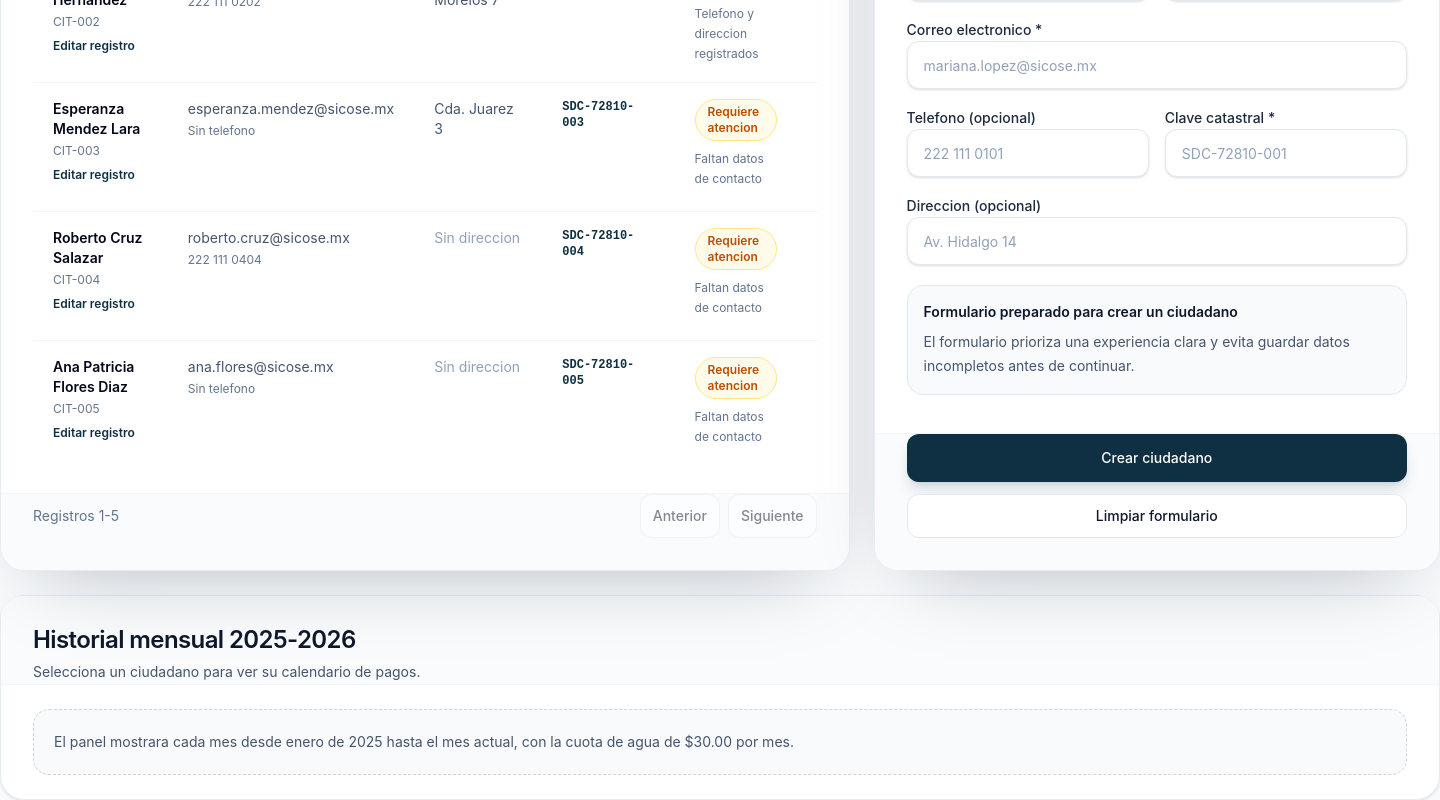
Test: CitizenManagementPanel › shows validation errors when the form is submitted empty
(page scrolled)
Click the button "Crear ciudadano": (1157, 458) [907,434,1407,482]
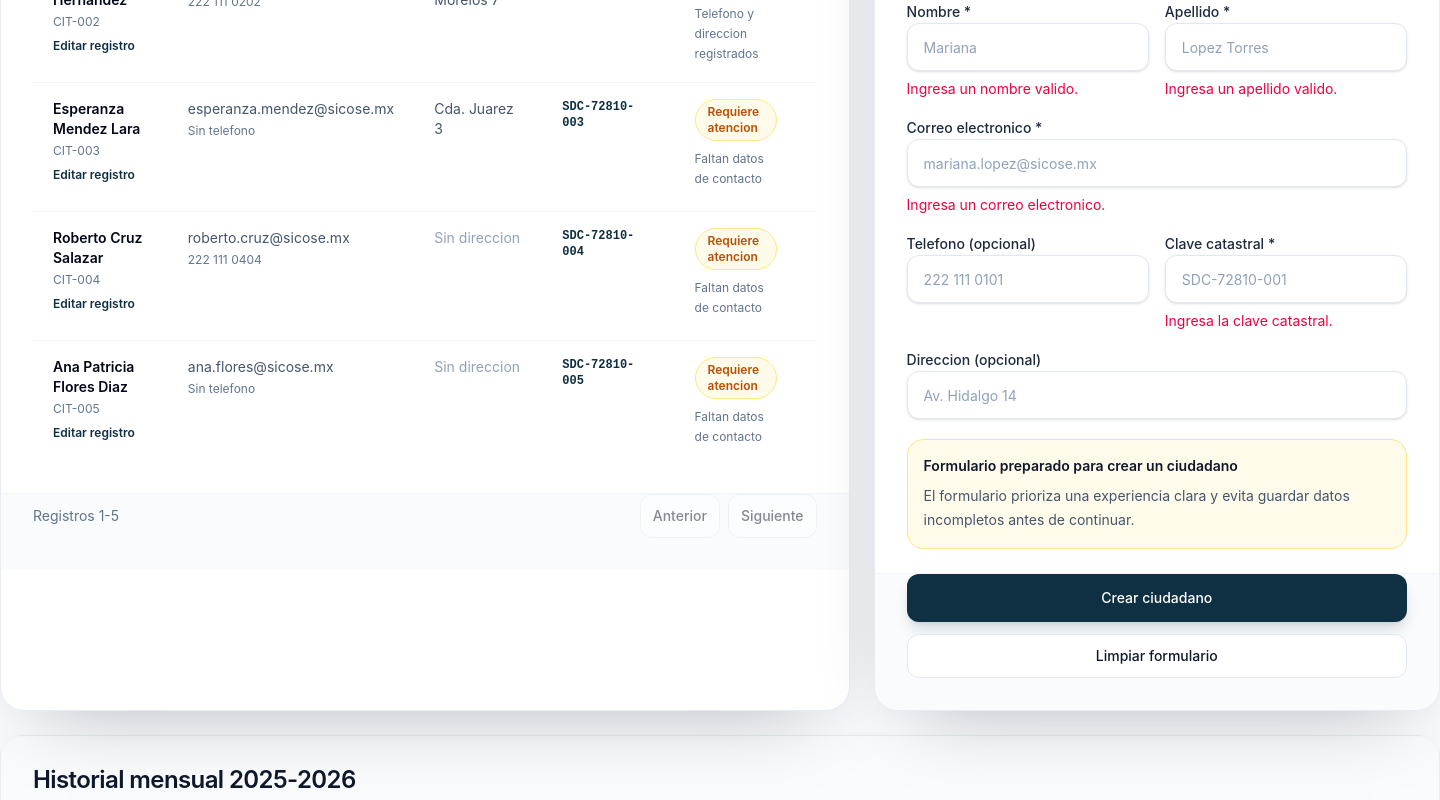
Now the text "Ingresa un nombre valido." is shown, box [907,80,1078,97]
Now the text "Ingresa un apellido valido." is shown, box [1165,80,1337,97]
